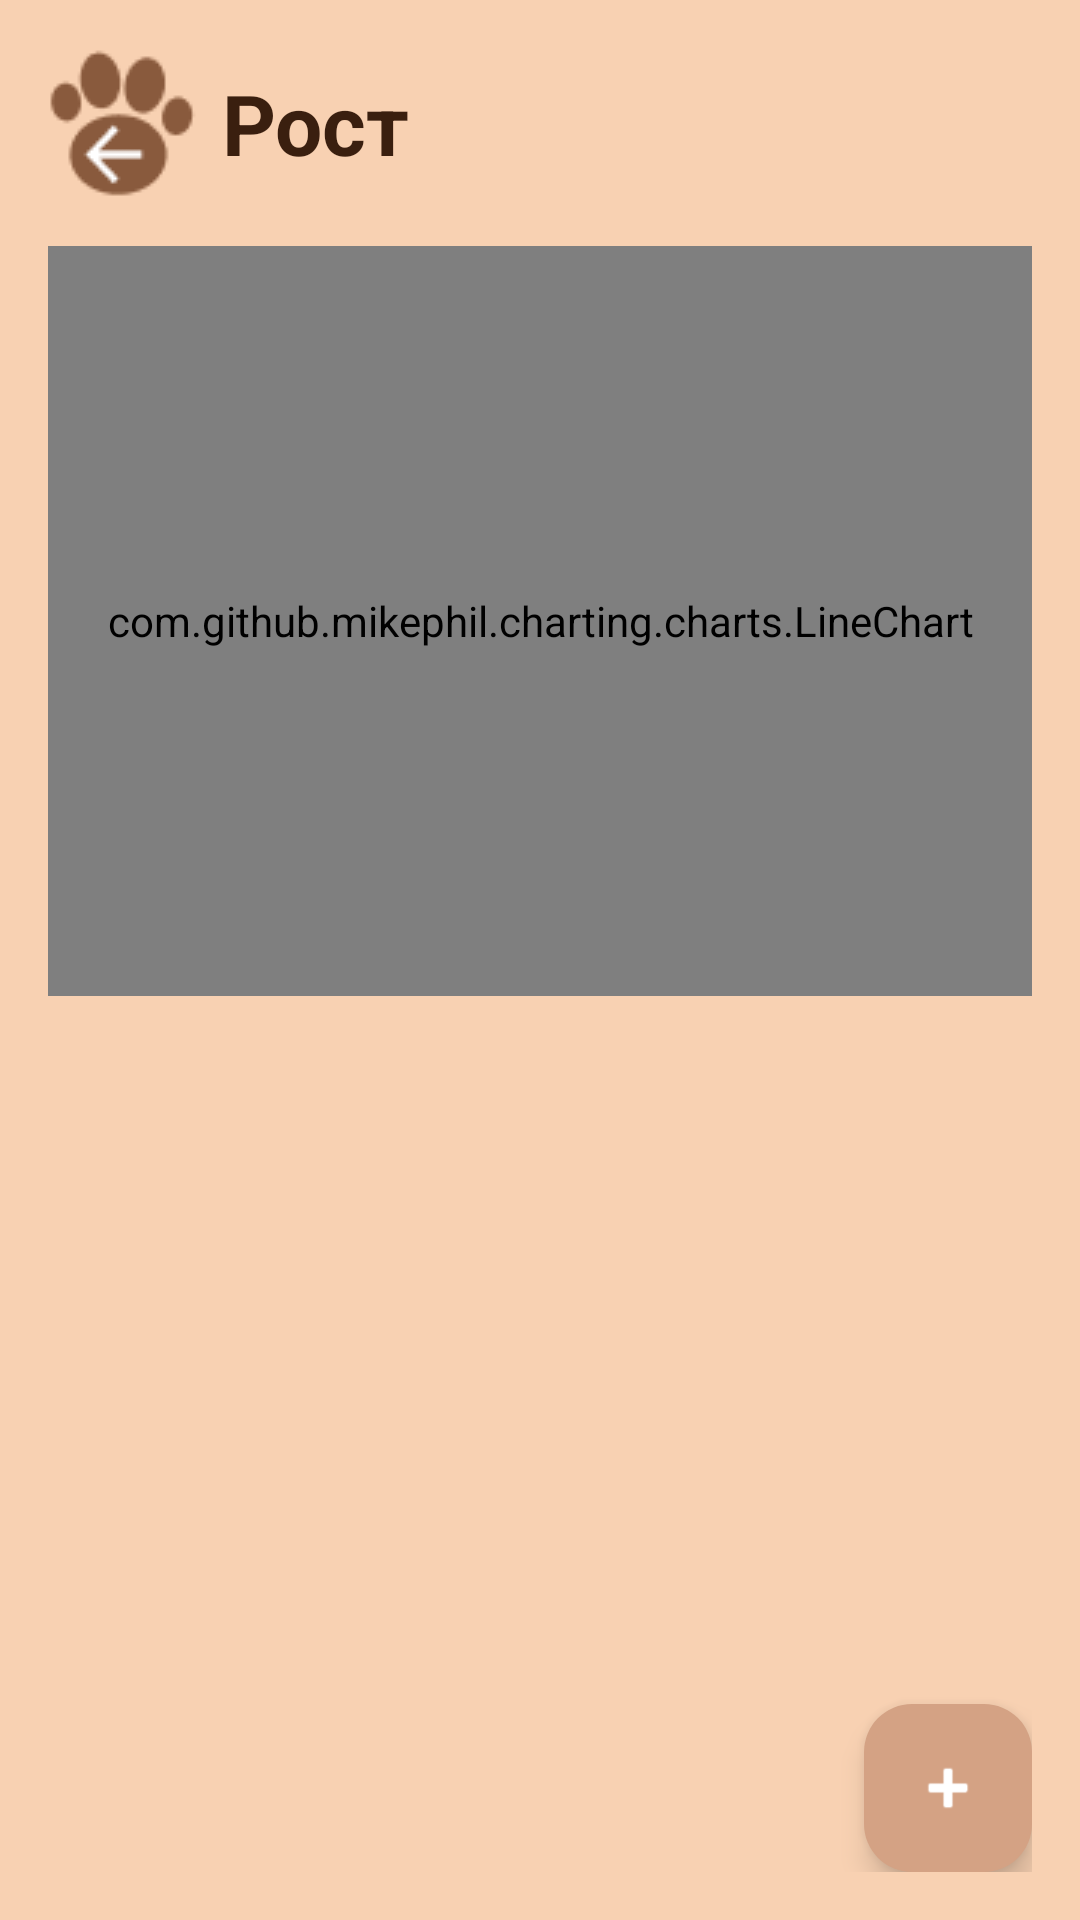

Where to tap for icons on this 1080px x 1920px app screen, as point (x, y):
add: point (948, 1788)
back: point (121, 123)
